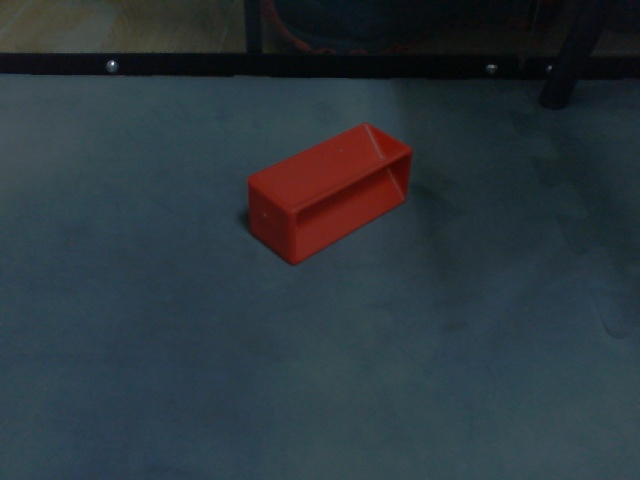RedSample: (245, 120, 415, 269)
